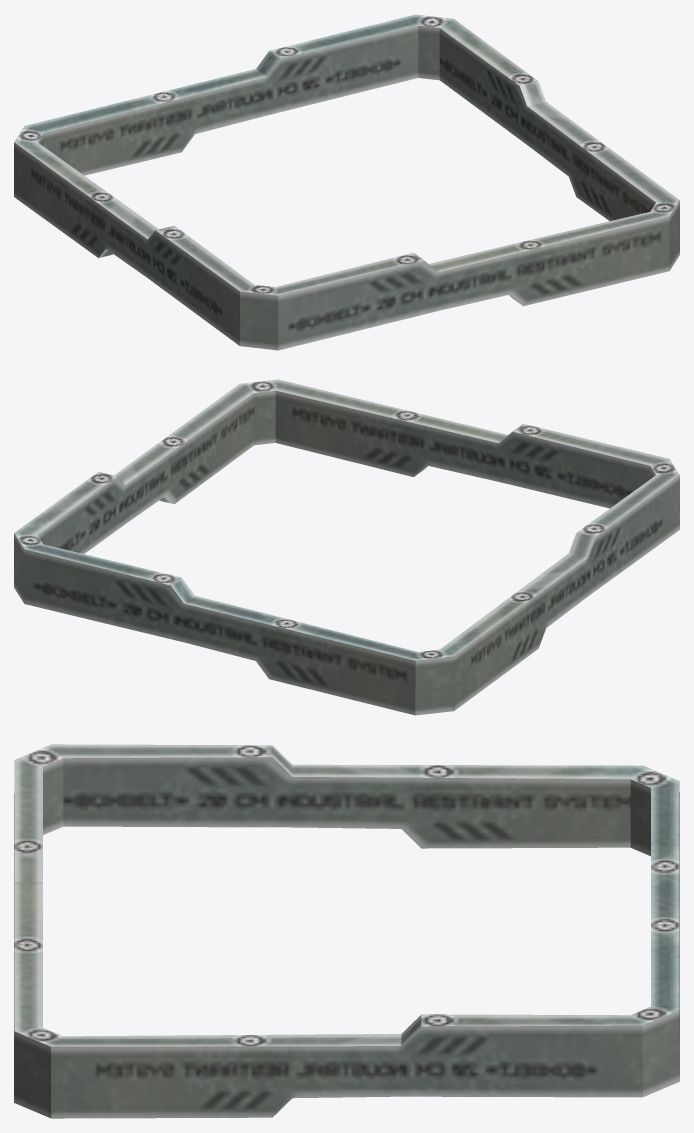
The model's file is BoxBeltLG_asym.FBX.
3 renders of one model, top to bottom at view 1: azimuth 30°, elevation 25°; view 2: azimuth 150°, elevation 25°; view 3: azimuth 270°, elevation 25°, orthographic. The views are drawn at different scales.
Visible parts, largest first — view 1: BoxBeltLG_asym; view 2: BoxBeltLG_asym; view 3: BoxBeltLG_asym.
Part boxes in pixels (<box>): BoxBeltLG_asym: <box>14,14,679,350</box>; BoxBeltLG_asym: <box>14,379,679,715</box>; BoxBeltLG_asym: <box>14,744,679,1118</box>.
Size of the model in its own units: 222 by 34.18 by 222.
